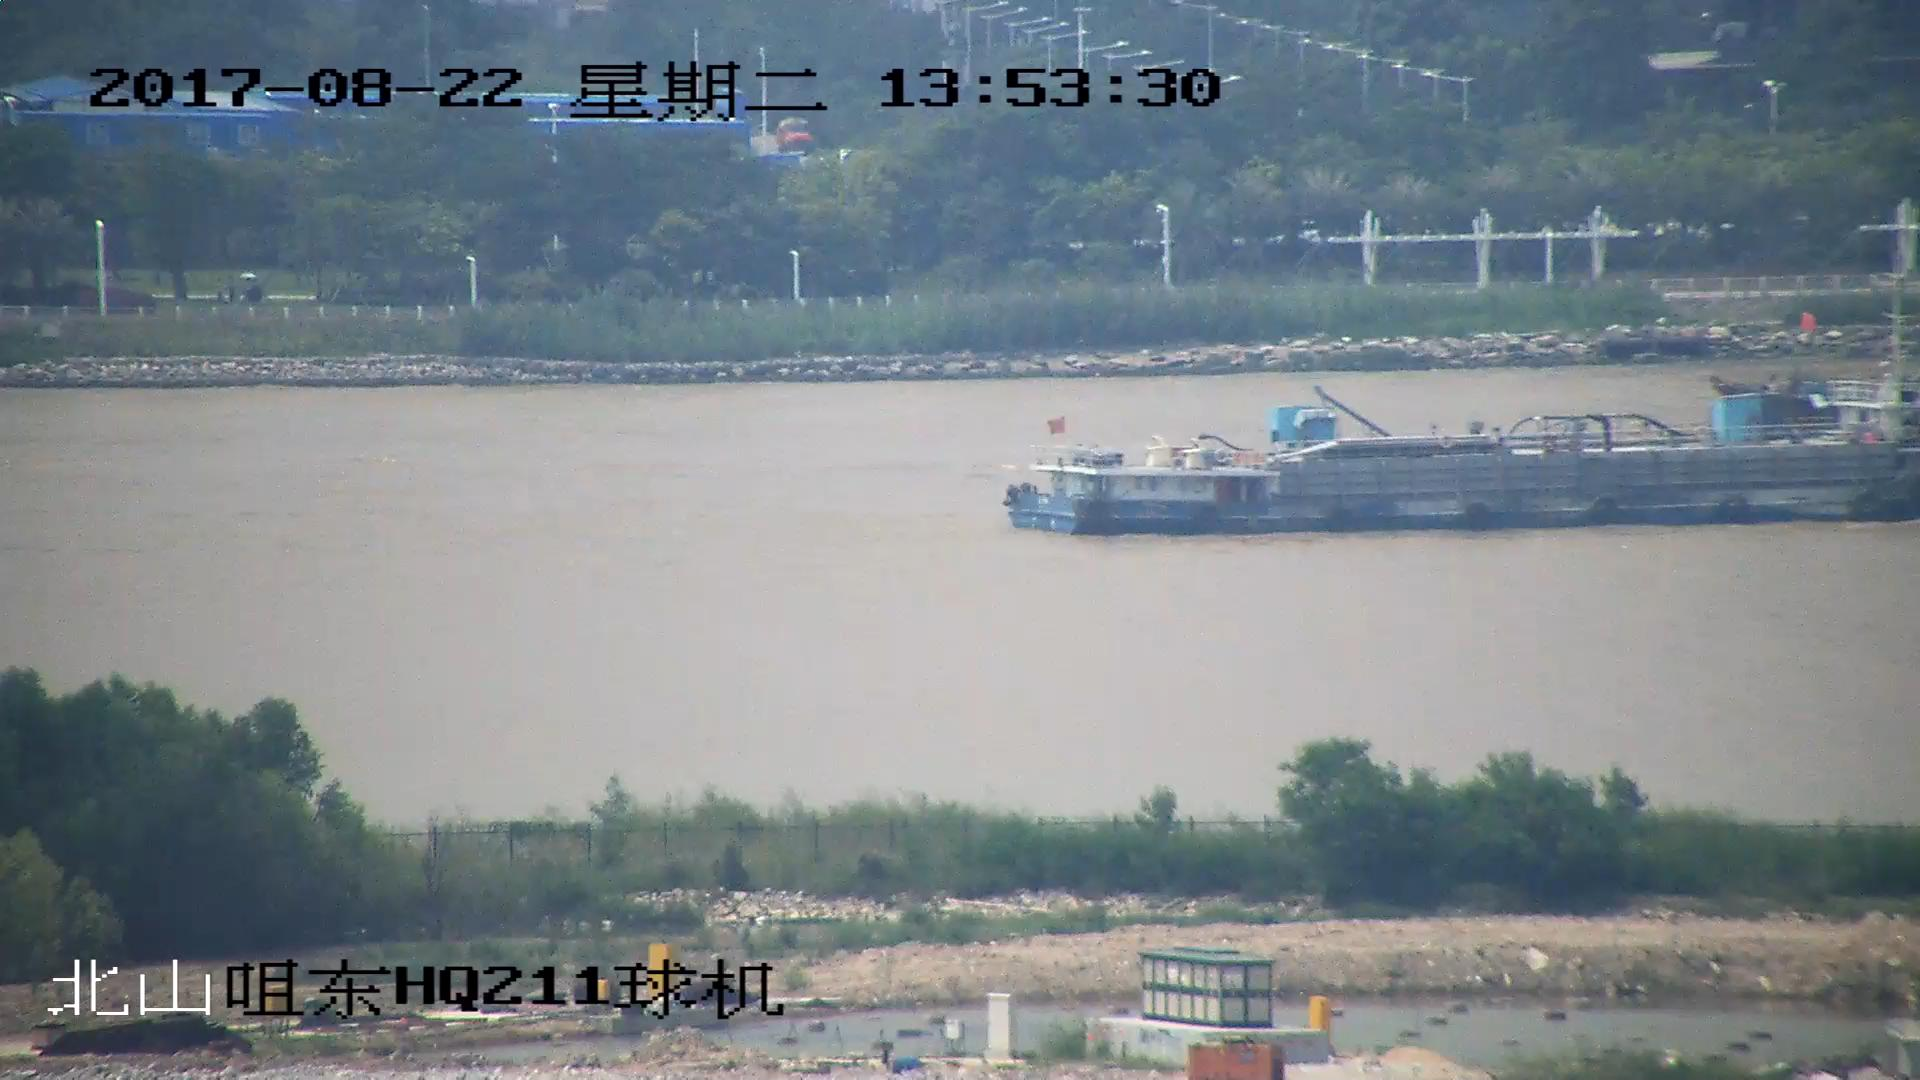fishing boat: (1708, 316, 1920, 449)
general cargo ship: (1004, 365, 1920, 538)
